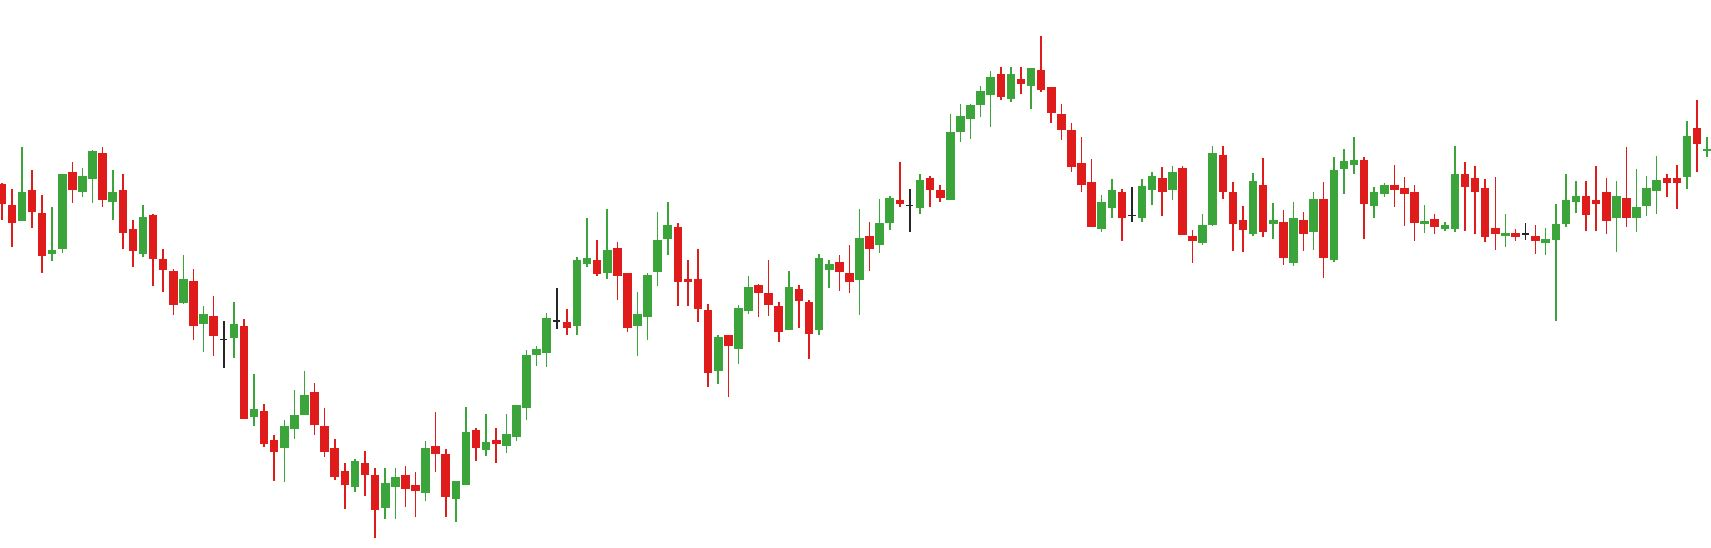buy: (621, 291, 723, 400)
